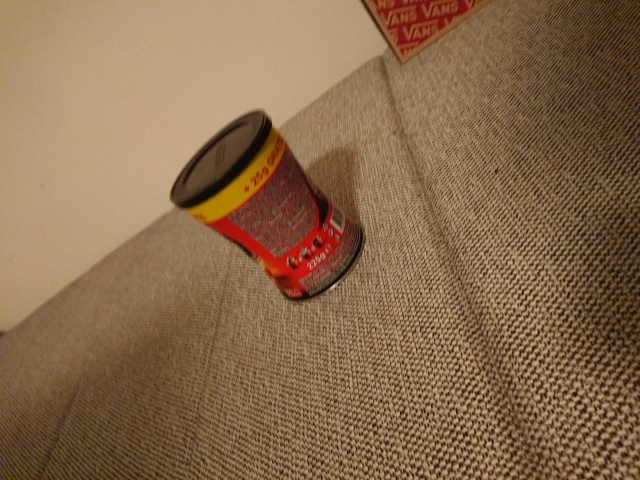Nescafe Classic 225g: (167, 105, 368, 305)
